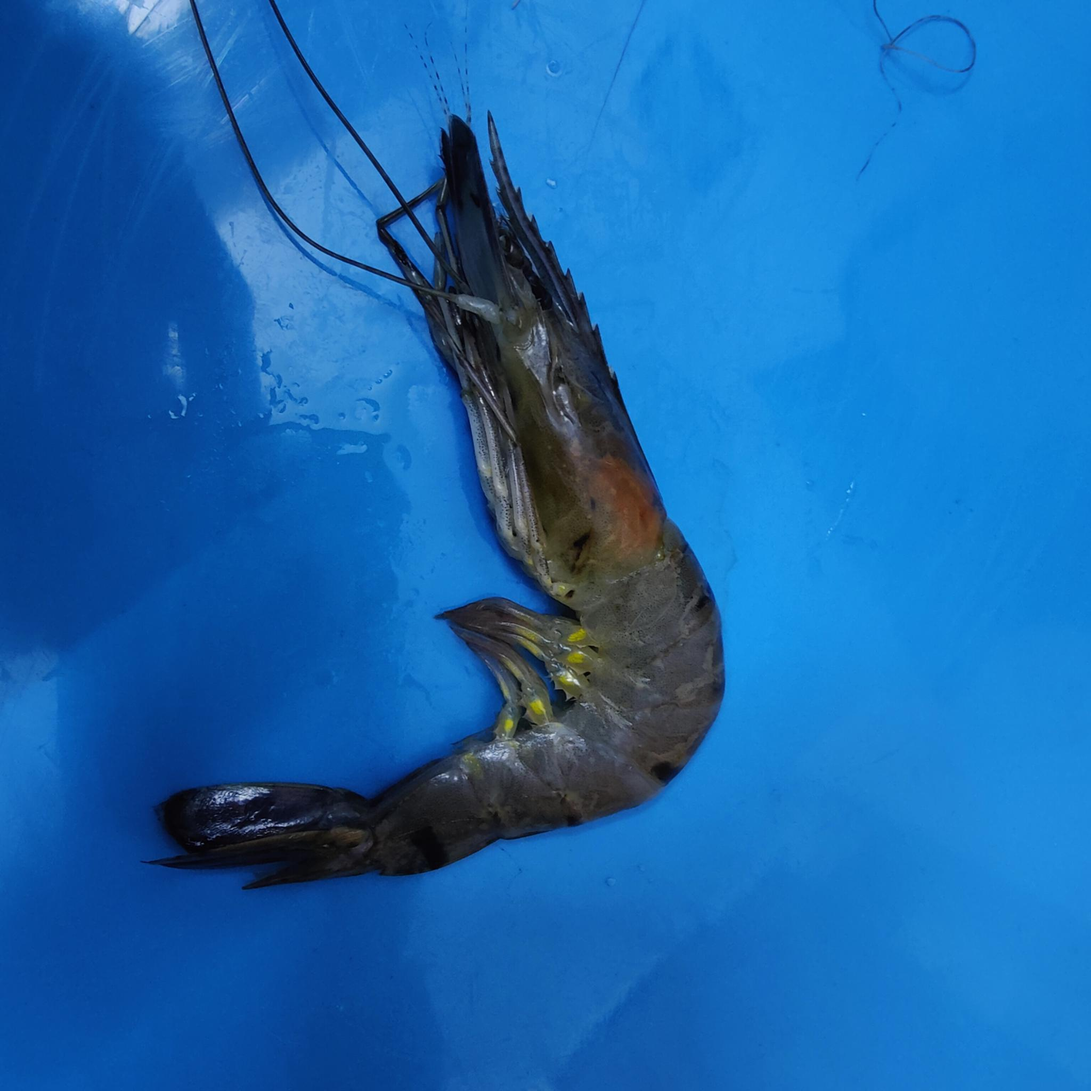whitespot: (533, 407, 657, 586), (615, 551, 700, 652)
